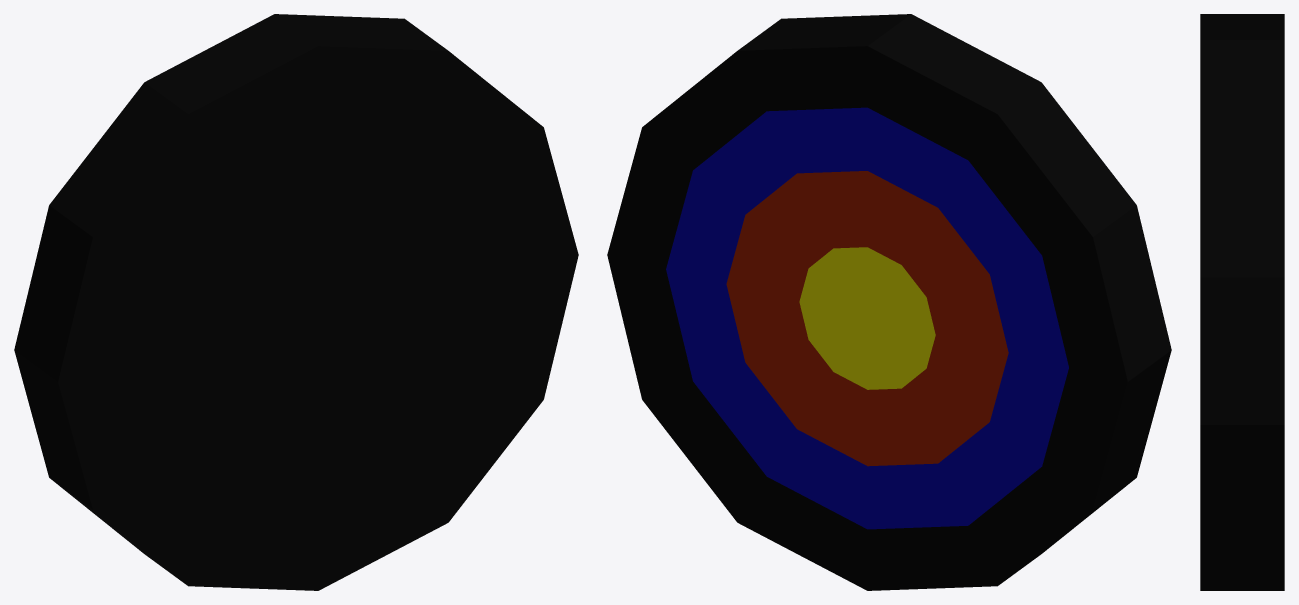
Rendered from cible.fbx.
The picture shows the model from 3 angles, left to right: view 1: azimuth 30°, elevation 25°; view 2: azimuth 150°, elevation 25°; view 3: azimuth 270°, elevation 25°; orthographic projection. The views are drawn at different scales.
Visible parts, largest first — view 1: pCylinder25; view 2: pCylinder25; view 3: pCylinder25.
Boxes of the visible parts, x1,y1,x2,y2 form: pCylinder25: [14, 14, 578, 590]; pCylinder25: [607, 14, 1171, 590]; pCylinder25: [1200, 14, 1284, 590].
Size of the model in its own units: 2.66 by 2.66 by 0.3883.
